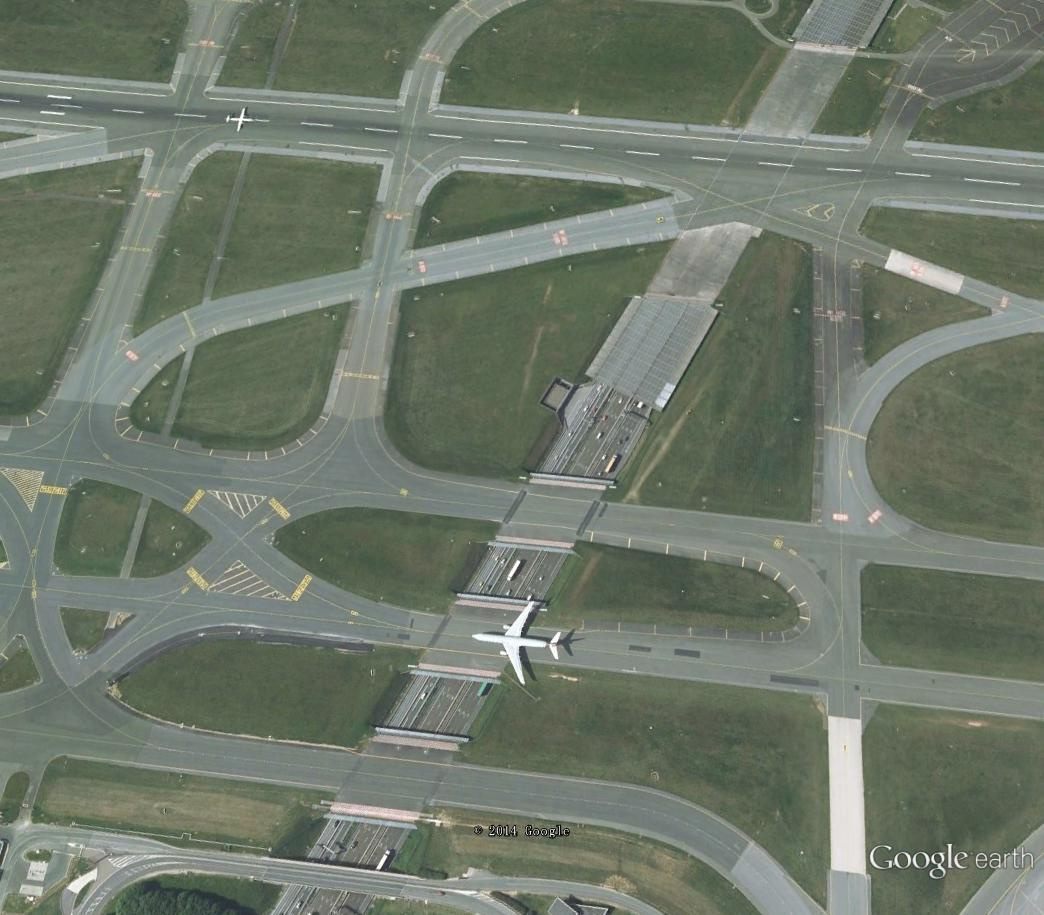aircraft: (466, 598, 570, 691), (223, 105, 259, 136)
